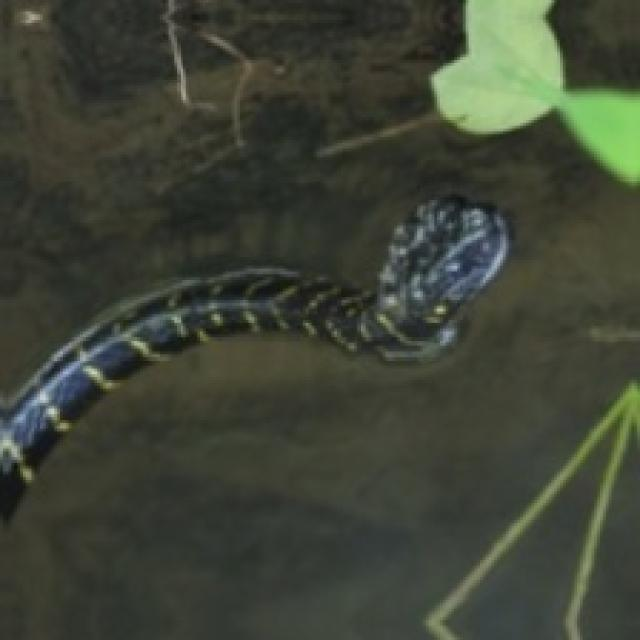mangrove cat snake: (0, 197, 506, 514)
